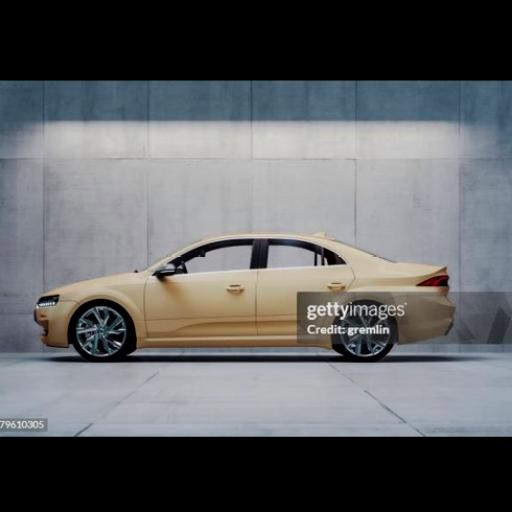sedan: (34, 234, 452, 360)
